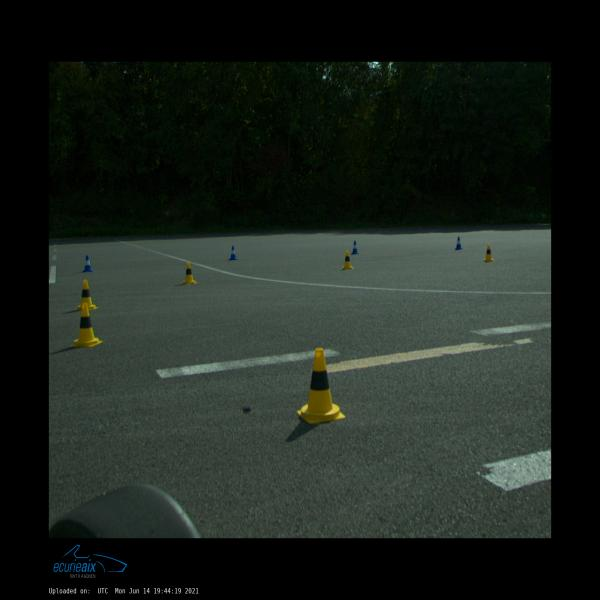blue_cone: (82, 256, 94, 272), (228, 246, 238, 260), (454, 236, 462, 250), (351, 241, 359, 254)
yellow_cone: (297, 348, 345, 423), (71, 304, 102, 347), (76, 279, 98, 311), (181, 262, 197, 284), (341, 251, 355, 270), (483, 244, 495, 262)
